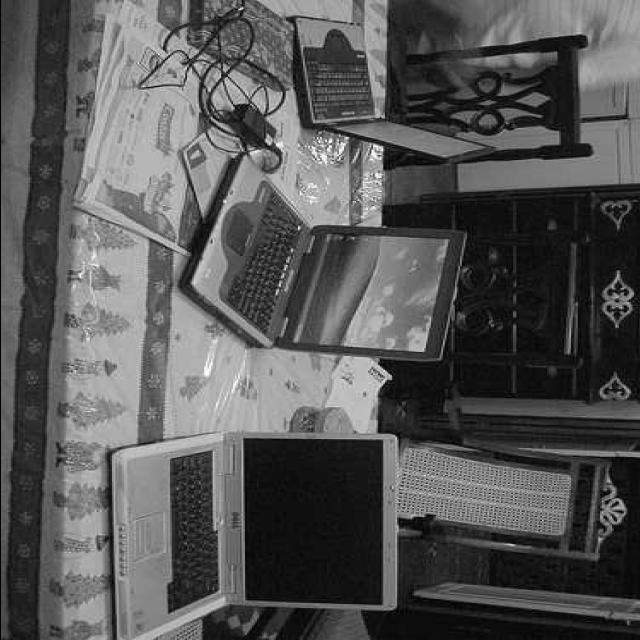laptop: (90, 418, 424, 640), (159, 167, 482, 362), (282, 0, 496, 164)
